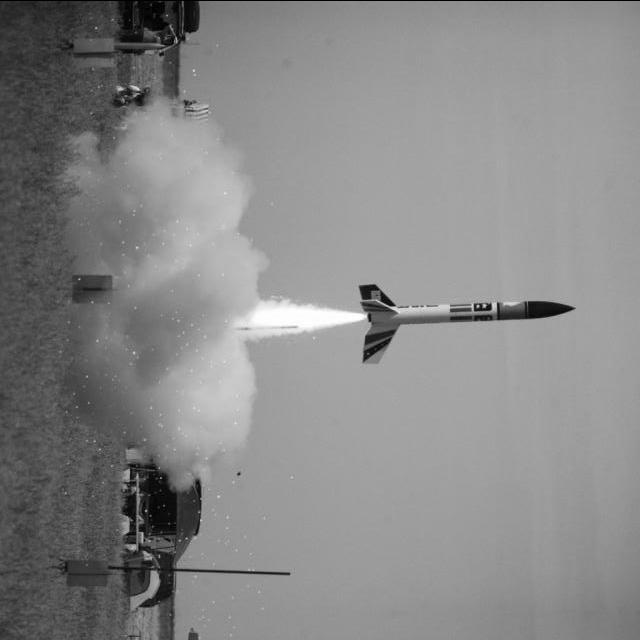missile: (360, 282, 578, 361)
